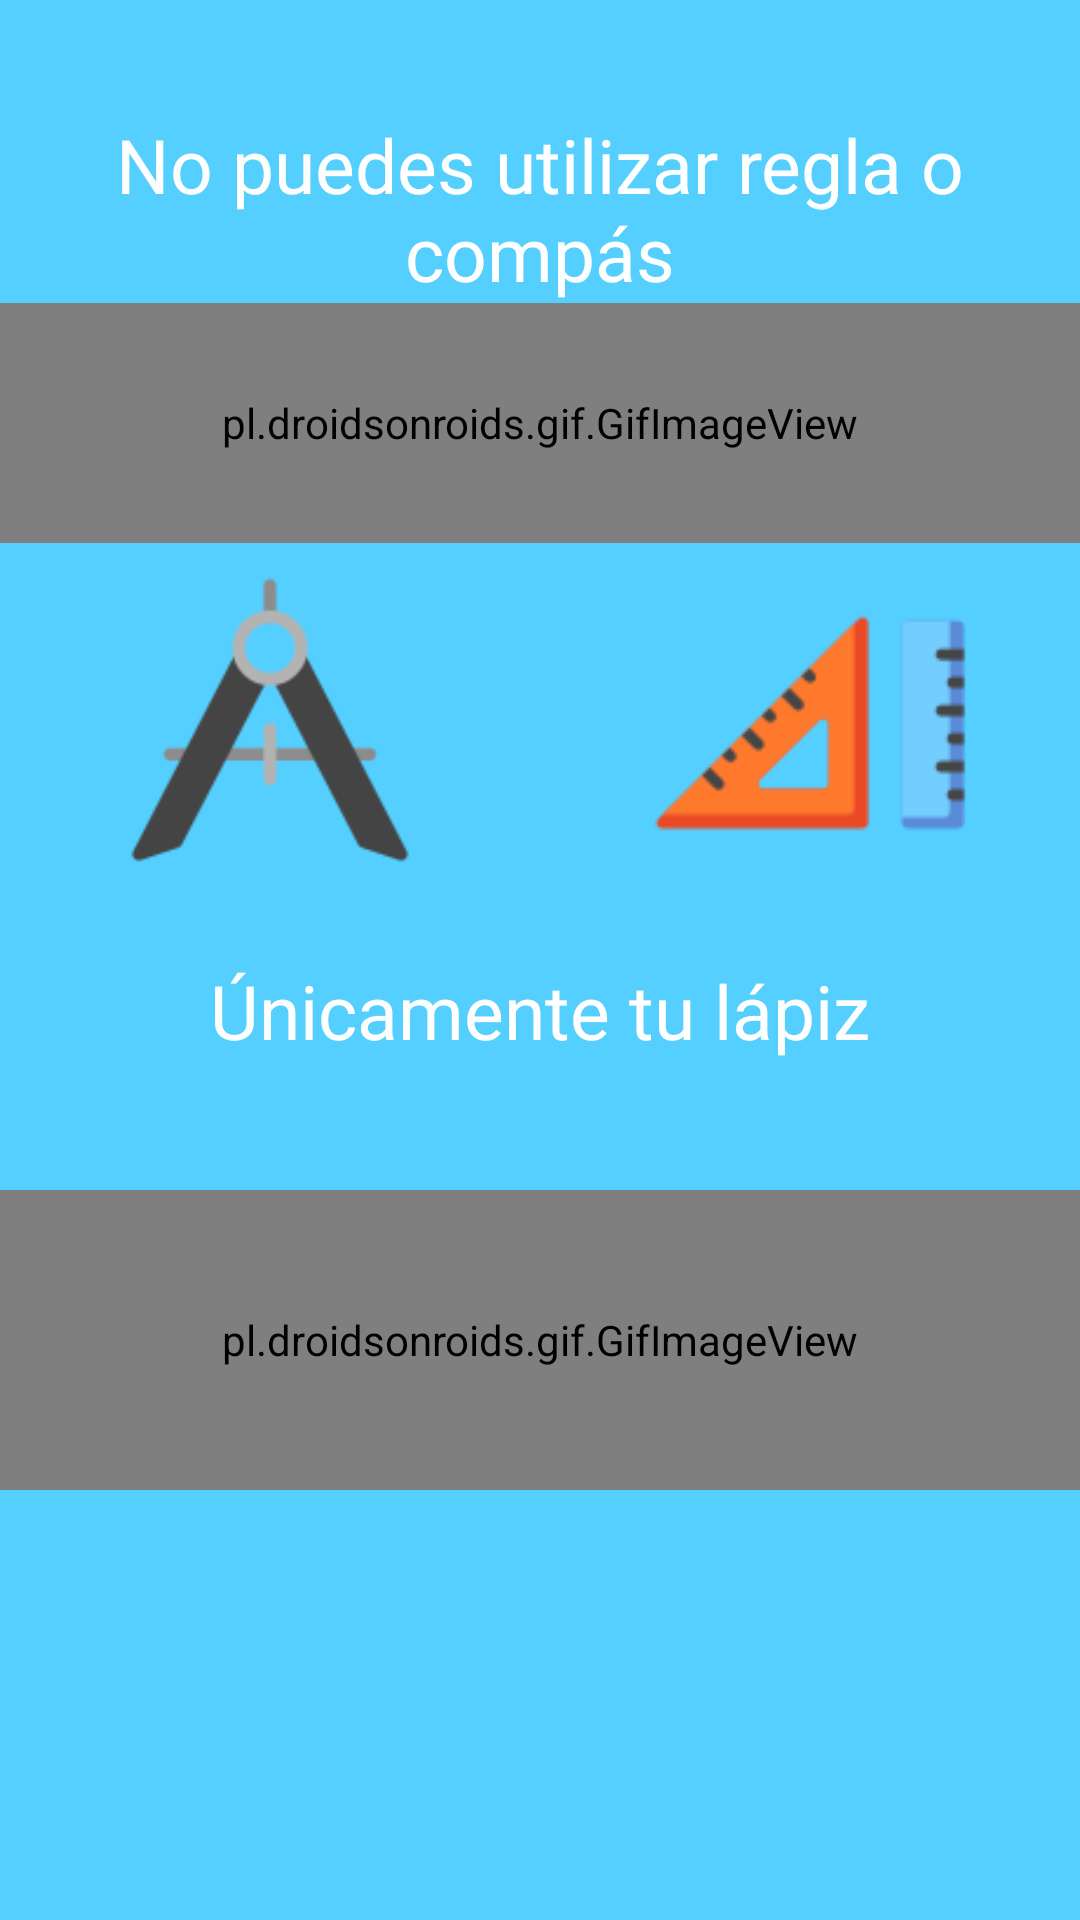

Screen size 1080px×1920px. Icon name, then its box in pixels as (x1, y1, x2, y2):
compass: (131, 579, 409, 862)
ruler: (655, 615, 966, 831)
